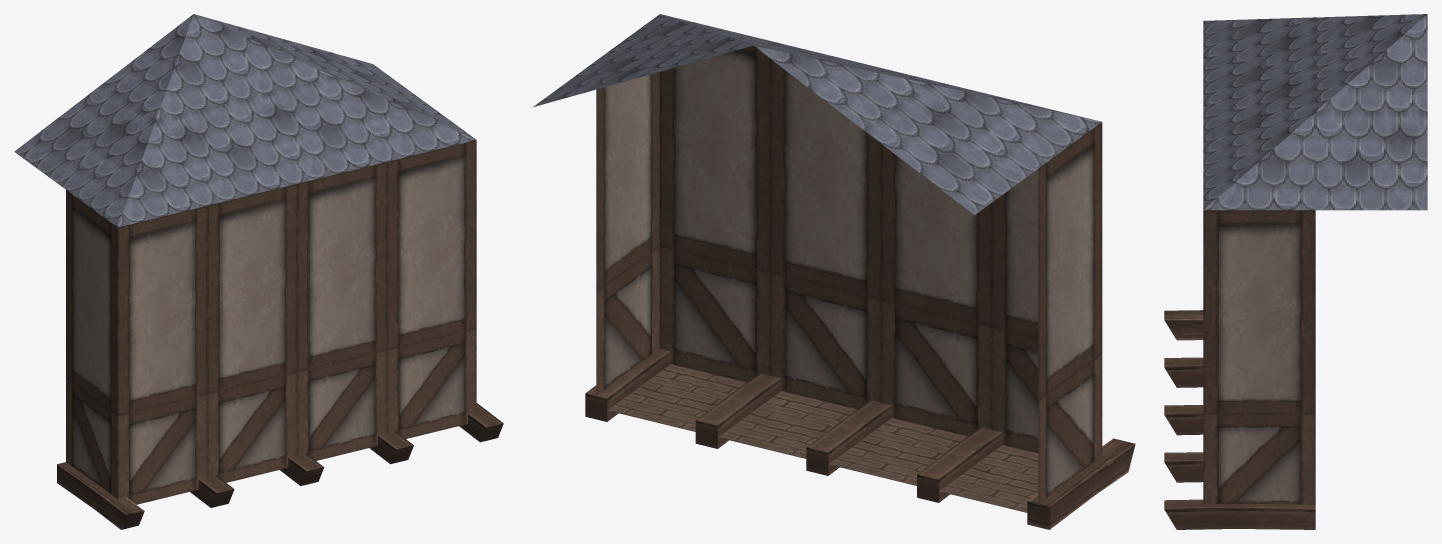
File: roof_blue_stickout_triangle_roof.glb
The picture shows the model from 3 angles, left to right: view 1: azimuth 30°, elevation 25°; view 2: azimuth 150°, elevation 25°; view 3: azimuth 270°, elevation 25°; orthographic projection. The views are drawn at different scales.
Visible parts, largest first — view 1: roof_blue_stickout_triangle_roof; view 2: roof_blue_stickout_triangle_roof; view 3: roof_blue_stickout_triangle_roof.
Part boxes in pixels (box(x1,y1,x2,y2)): roof_blue_stickout_triangle_roof: box(14, 14, 503, 529); roof_blue_stickout_triangle_roof: box(533, 14, 1135, 529); roof_blue_stickout_triangle_roof: box(1164, 14, 1427, 529).
Bounding box in the file's own units: 4.2 × 4.1 × 2.35.
1 material, 1 textured.
